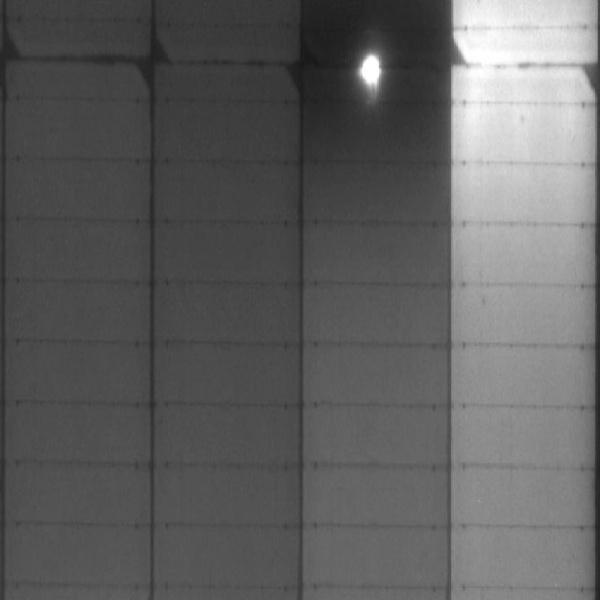hot_spot: (361, 54, 380, 85)
